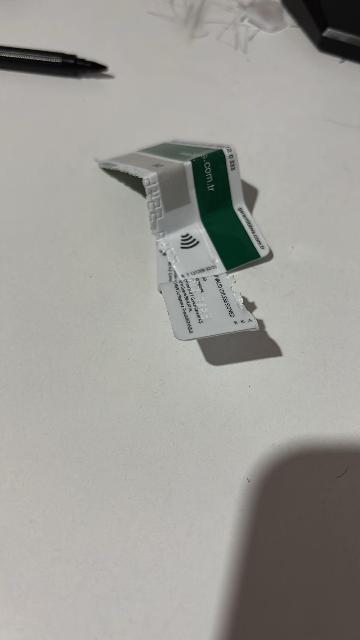Plastik: (87, 128, 283, 339)
